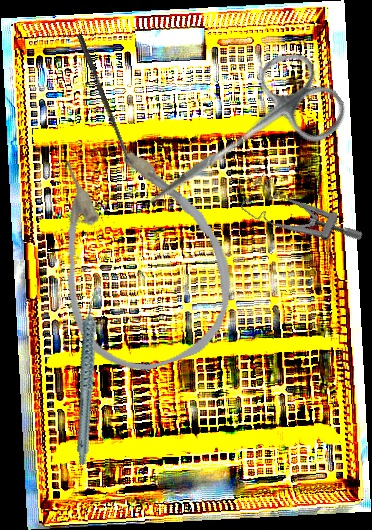Cannula: (24, 122, 254, 388)
Handpiece: (42, 289, 137, 466)
Iris Scissors: (122, 40, 355, 245)
Speculum: (236, 163, 366, 276)
Surgical Spoon: (76, 33, 132, 167)
